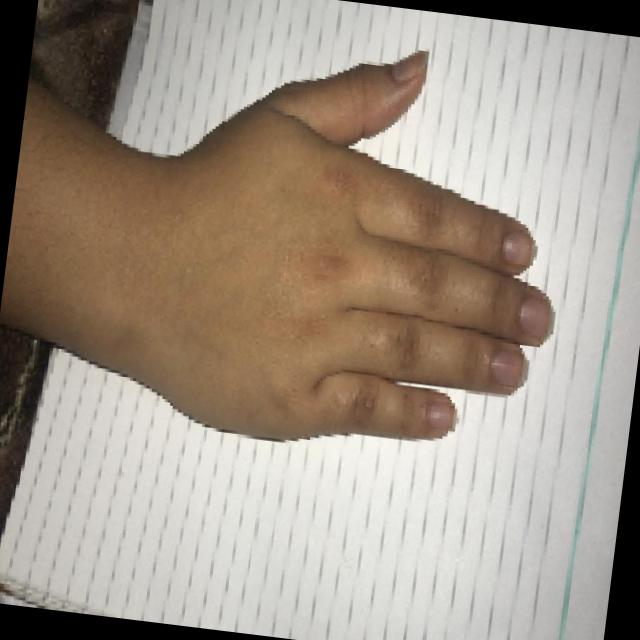Nail: (518, 293, 554, 342), (490, 347, 526, 387), (500, 230, 537, 268), (390, 48, 428, 82), (426, 400, 455, 430)
